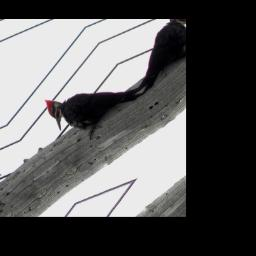Woodpecker: (36, 52, 147, 152)
